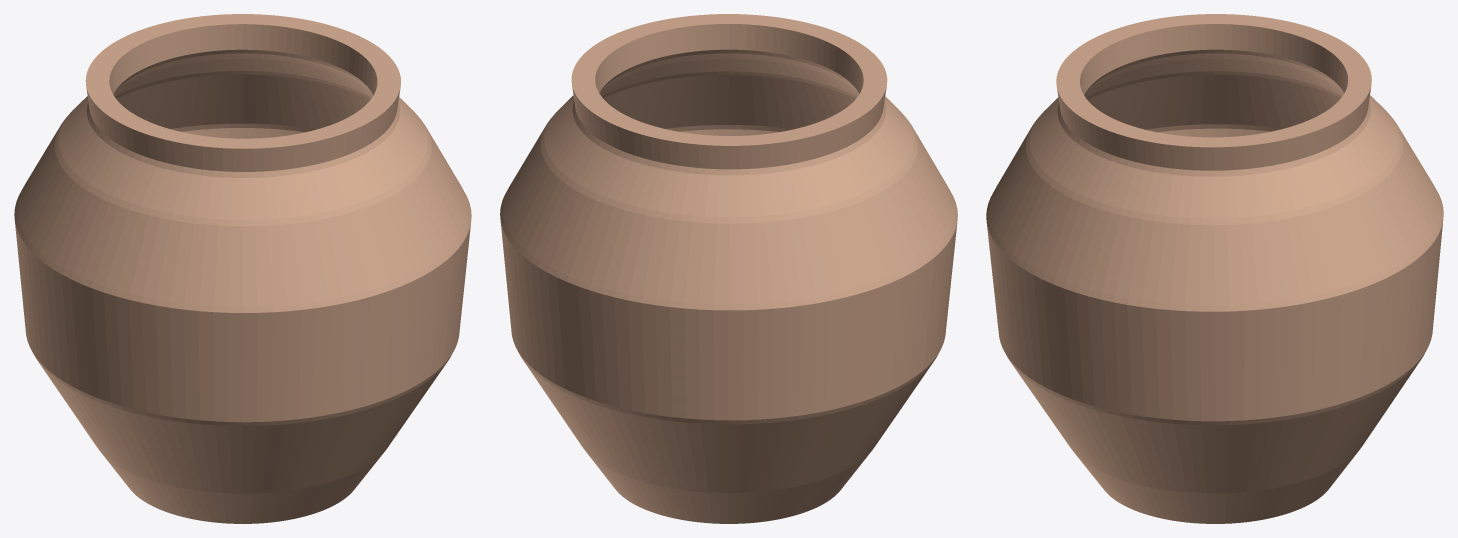
The model's file is Pot_06_Rustic_Jar.glb.
3 renders of one model, left to right at view 1: azimuth 30°, elevation 25°; view 2: azimuth 150°, elevation 25°; view 3: azimuth 270°, elevation 25°, orthographic.
Visible parts, largest first — view 1: Pot_06_Rustic_Jar; view 2: Pot_06_Rustic_Jar; view 3: Pot_06_Rustic_Jar.
Boxes of the visible parts, x1,y1,x2,y2 form: Pot_06_Rustic_Jar: (14, 14, 471, 523); Pot_06_Rustic_Jar: (500, 14, 957, 523); Pot_06_Rustic_Jar: (986, 14, 1443, 523).
Bounding box in the file's own units: 0.232 × 0.2208 × 0.232.
